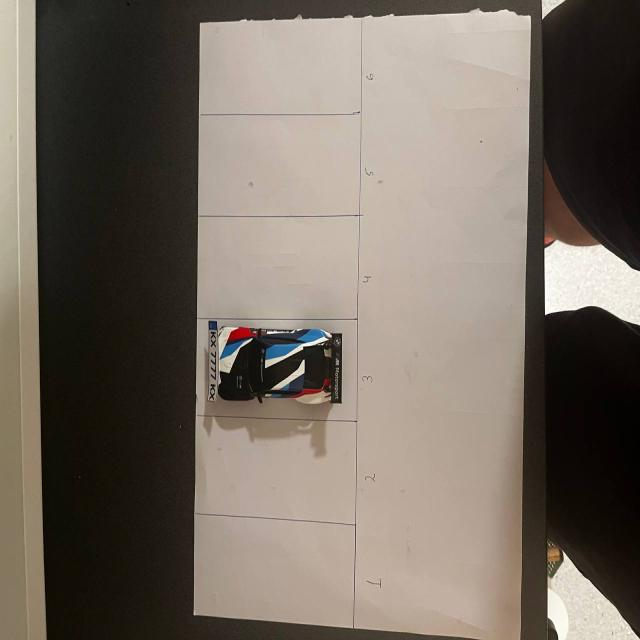cars: (201, 317, 353, 424)
